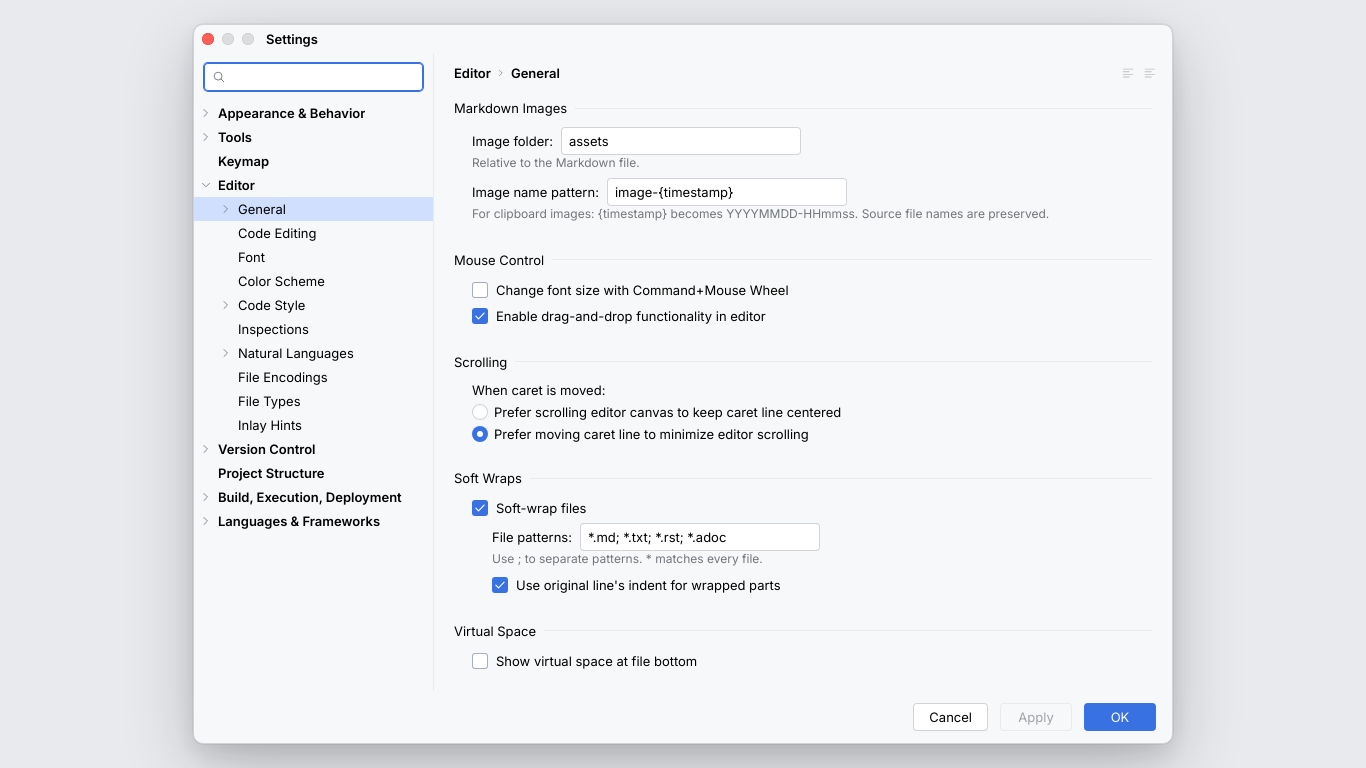
Test: Settings dialog › stages edits and writes them on Apply
The image size is (1366, 768).
Click the checkbox labelled "Soft-wrap files" at (529, 508), box [472,499,586,517]
(page scrolled)
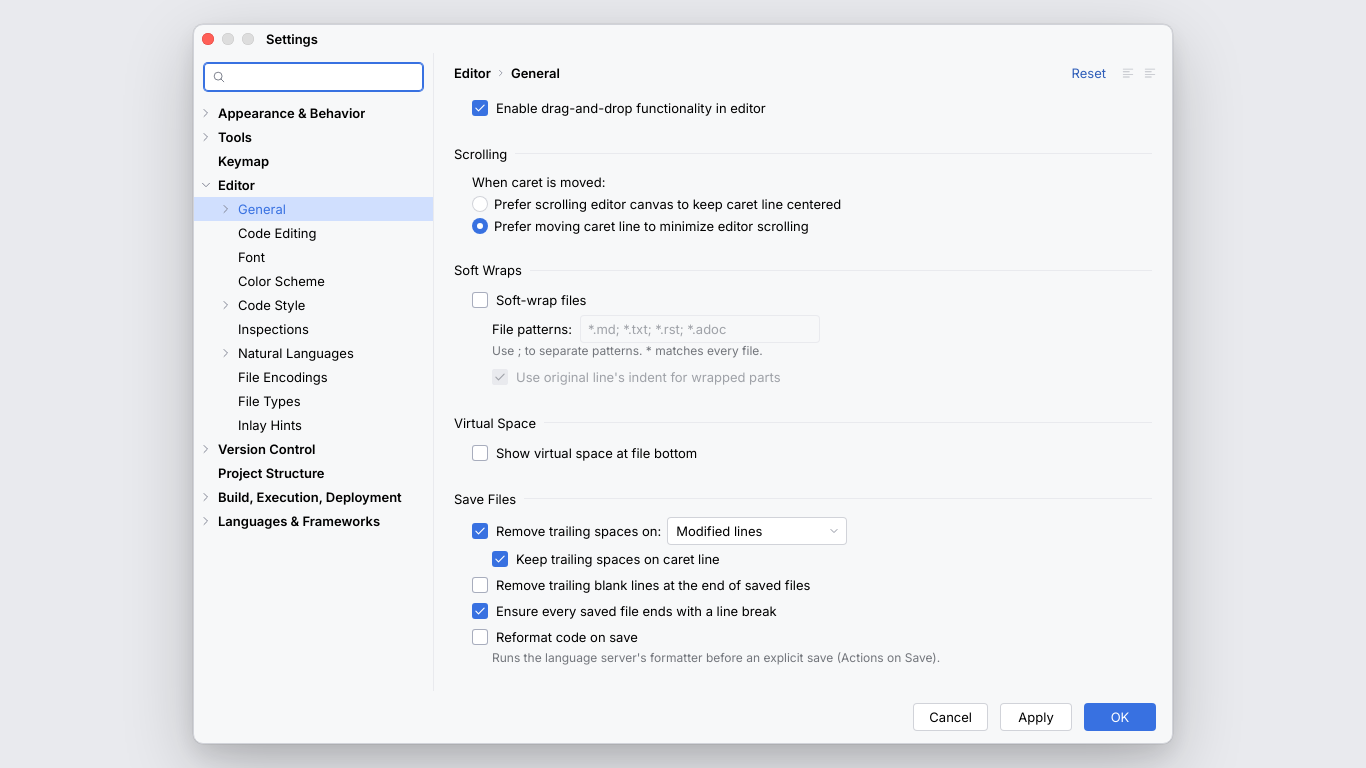
Click the checkbox labelled "Reformat code on save" at (555, 637), box [472,628,638,646]
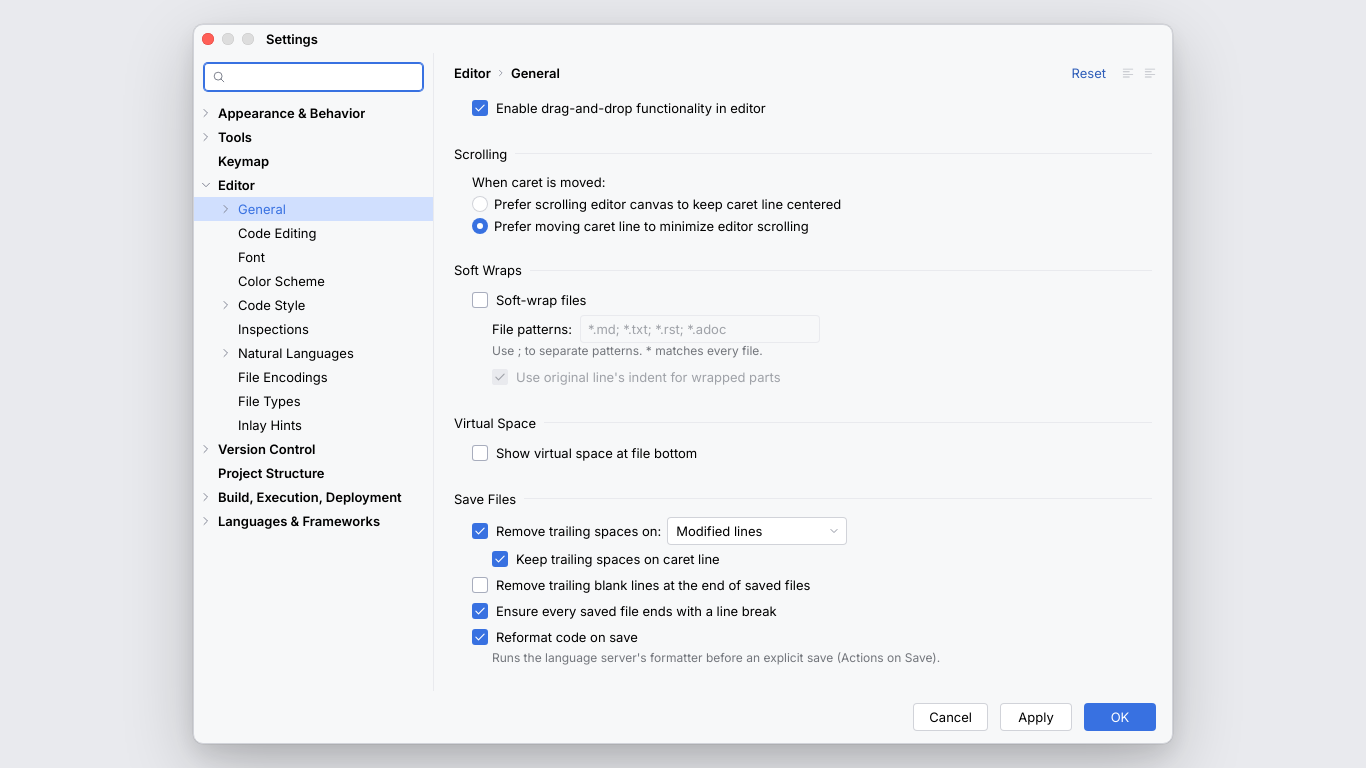
Click the button "Apply" at (1036, 717), box [1000,703,1072,731]
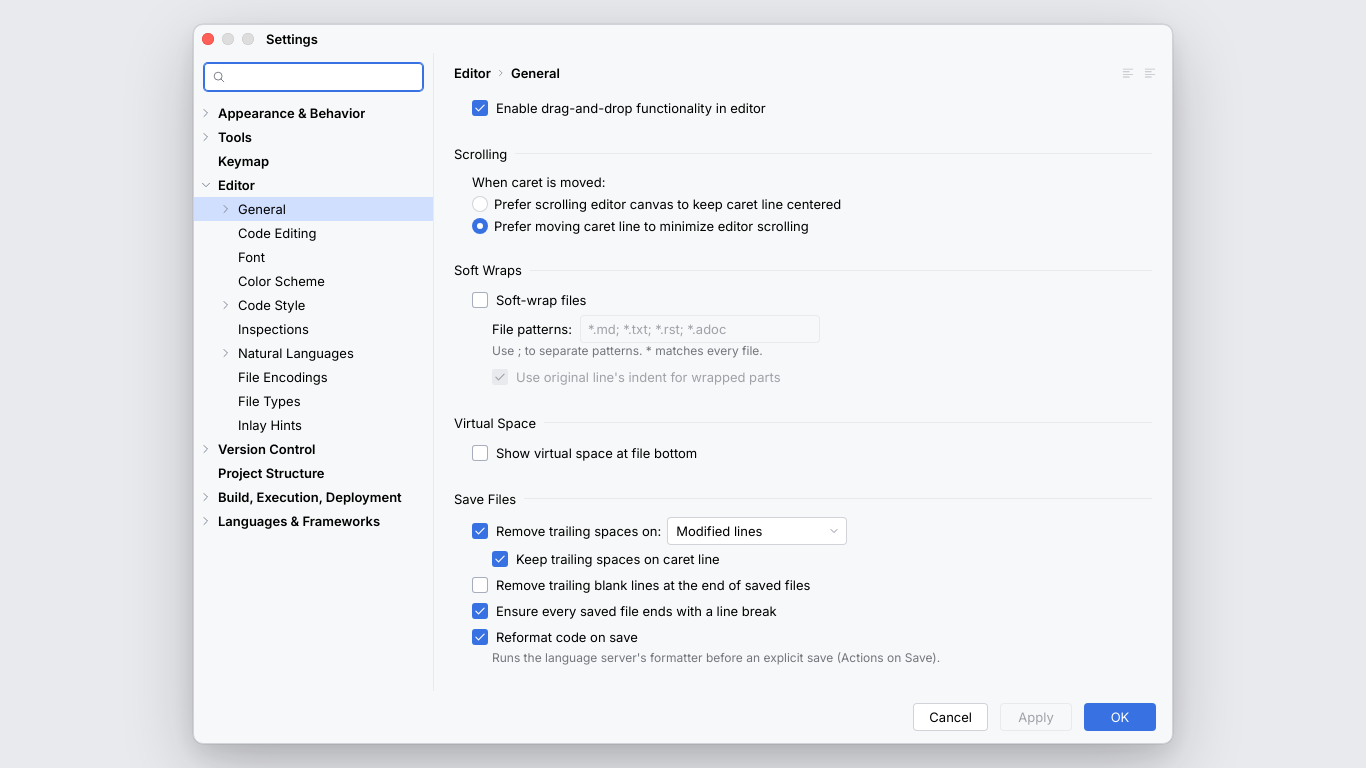
Now the button "Apply" is disabled, box [1000,703,1072,731]
